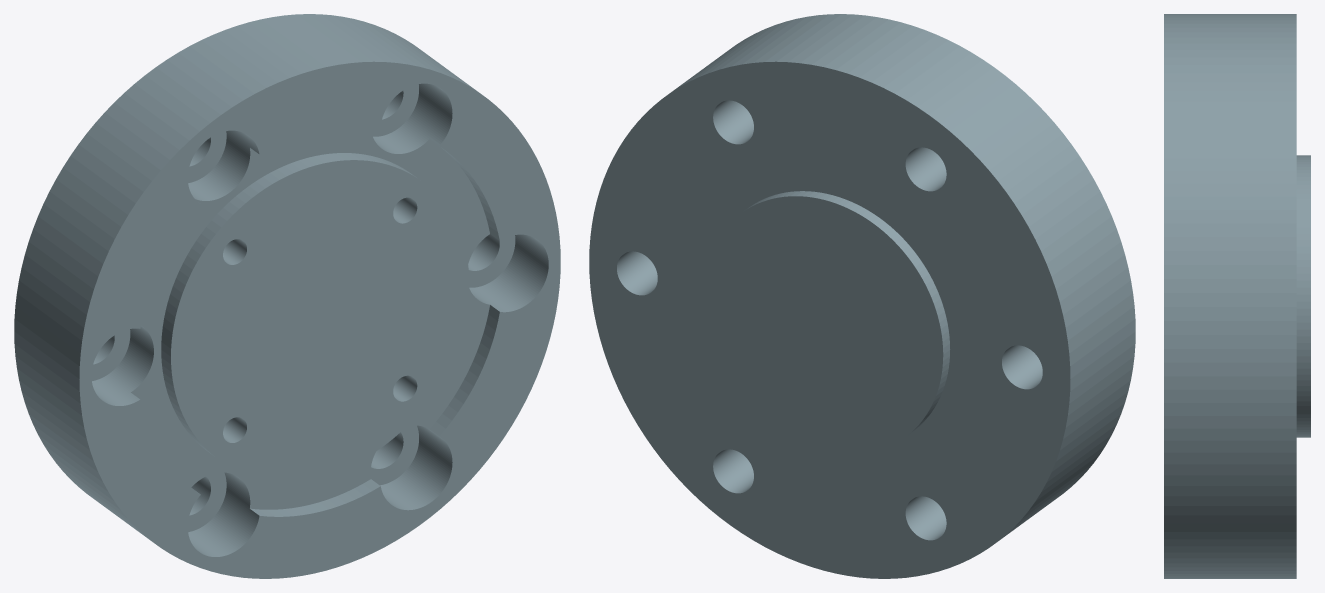
Rendered from adapter_R04.glb.
3 views of the same model, side by side, from view 1: azimuth 30°, elevation 25°; view 2: azimuth 150°, elevation 25°; view 3: azimuth 270°, elevation 25° (orthographic).
Parts seen in each view (by area): view 1: original_adapter_nominal_R04; view 2: original_adapter_nominal_R04; view 3: original_adapter_nominal_R04.
Boxes of the visible parts, x1=… form: original_adapter_nominal_R04: x1=14, y1=14, x2=560, y2=578; original_adapter_nominal_R04: x1=589, y1=14, x2=1135, y2=578; original_adapter_nominal_R04: x1=1164, y1=14, x2=1310, y2=578.
Size of the model in its own units: 0.1 by 0.1 by 0.026.
